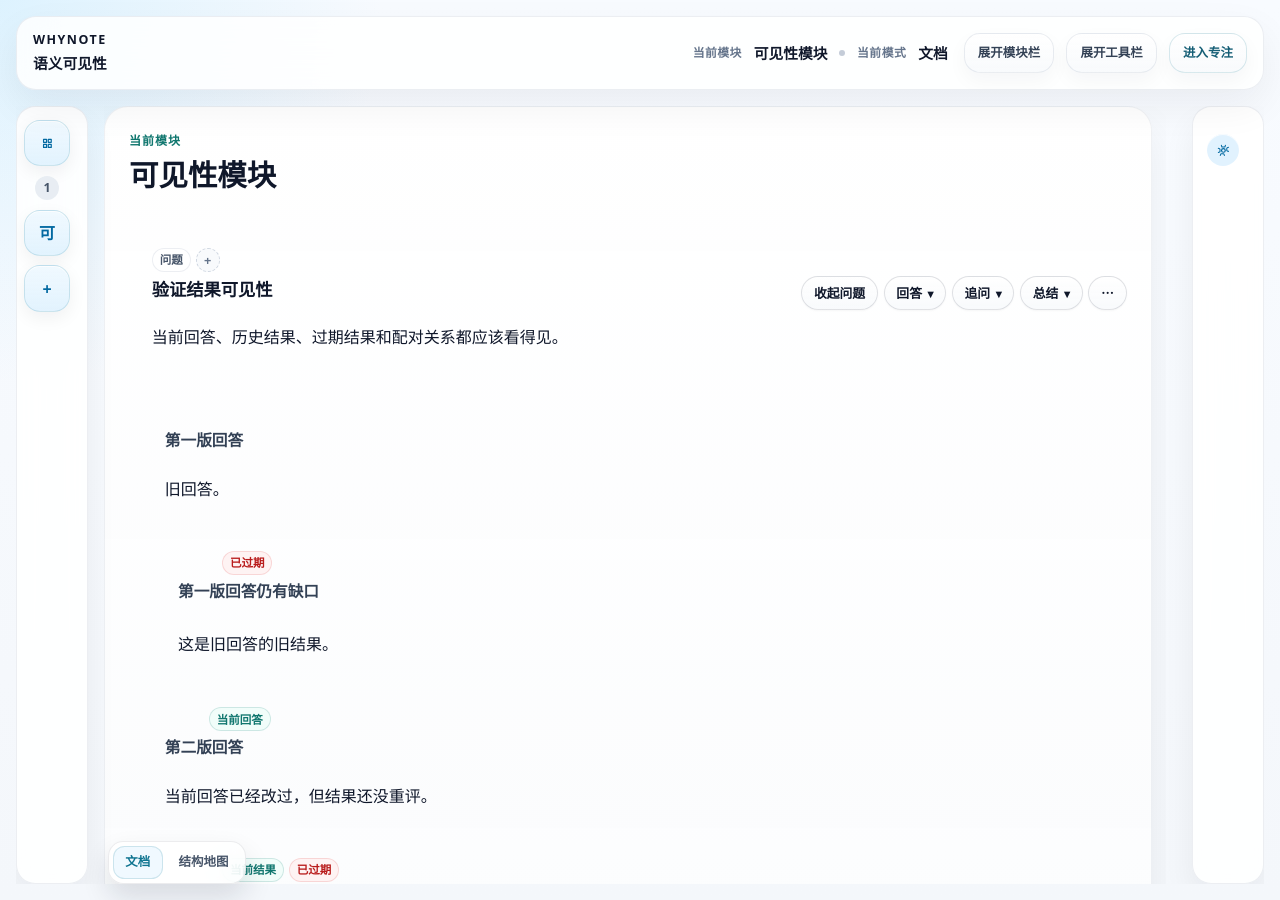
Test case: keeps default result badges minimal while preserving full semantics in inspector
Click the element with test id "editor-node-judgment-visibility-v1" at x=628, y=607, box [129,536,1127,677]
(page scrolled)
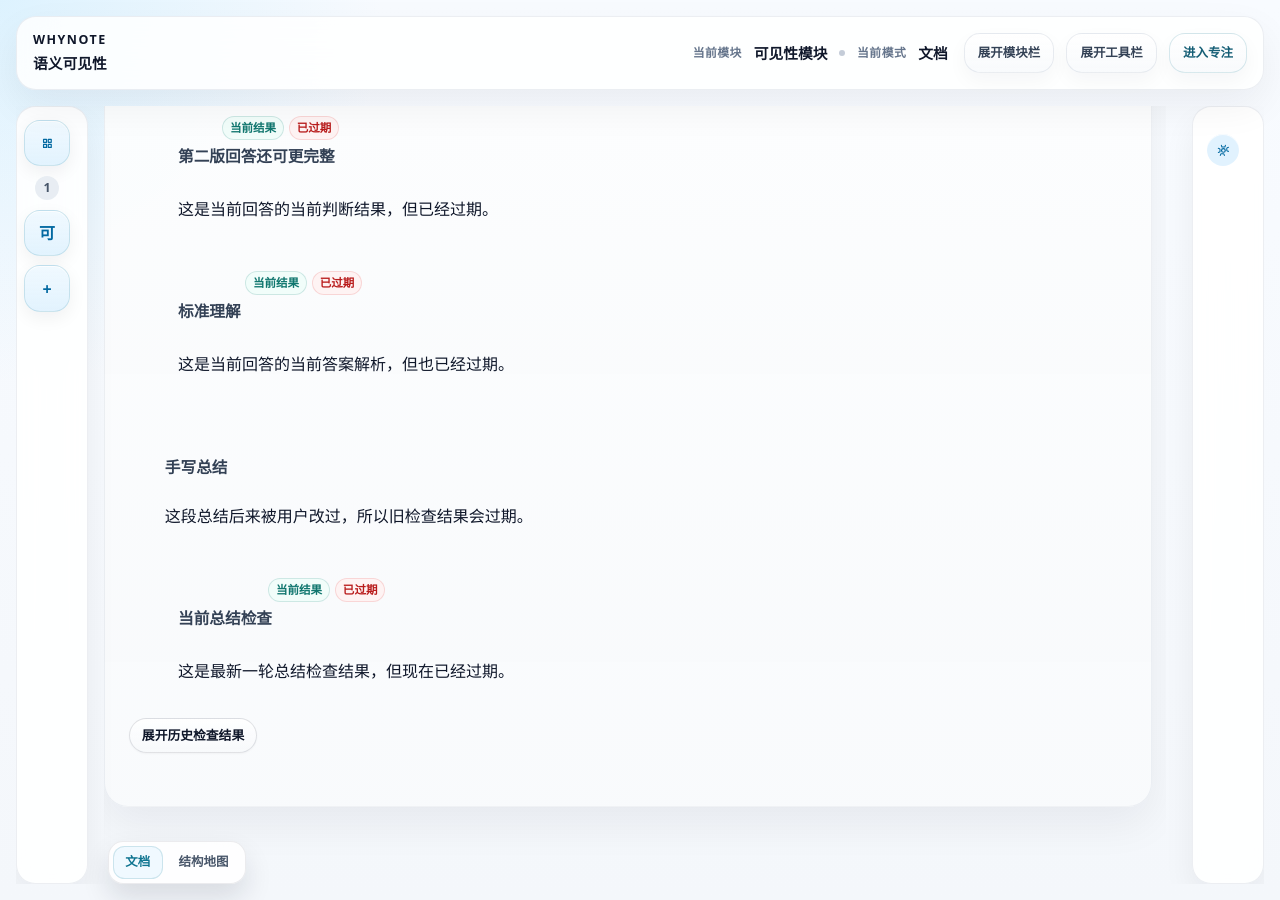
Click the button "展开历史检查结果" at x=193, y=736, box [129,718,257,753]
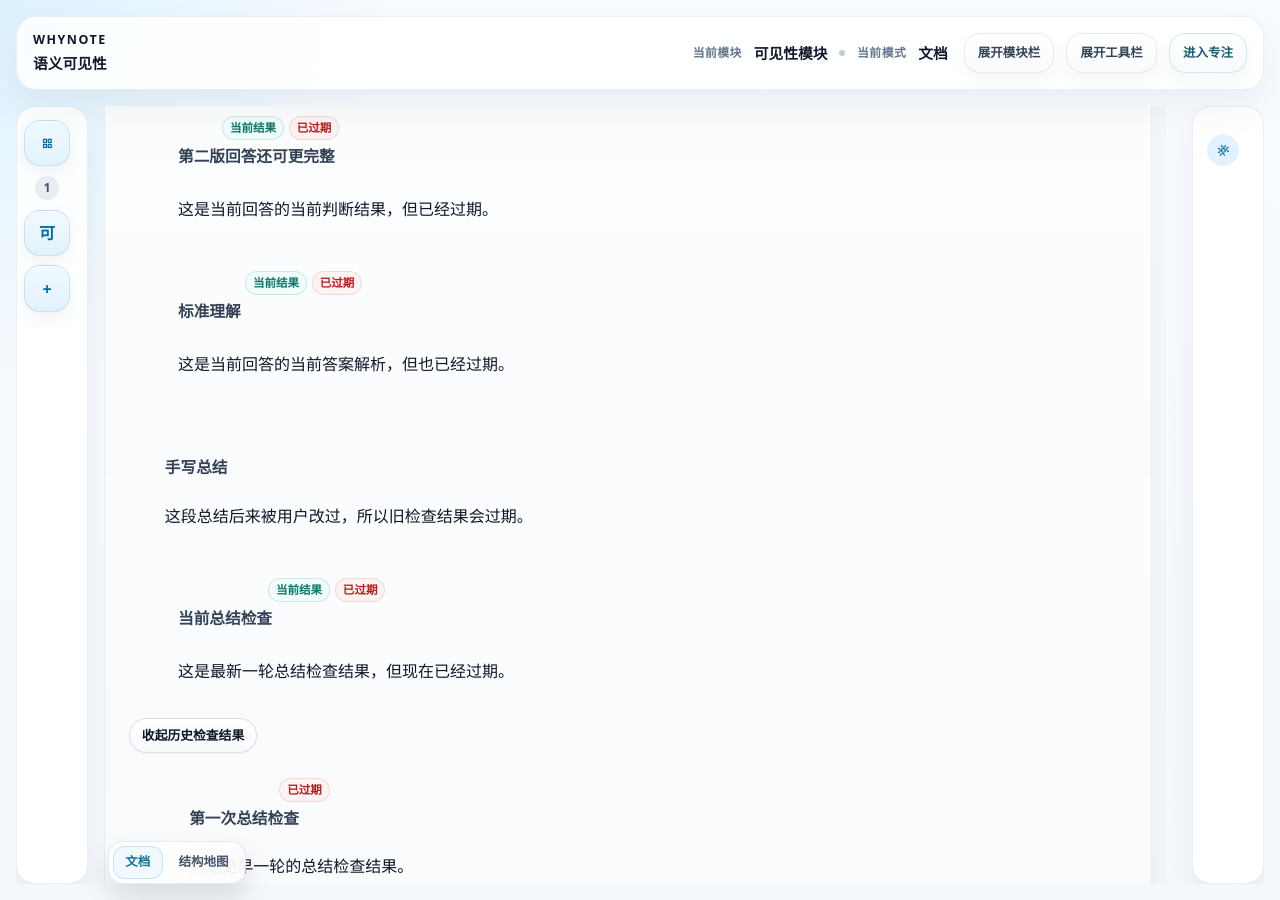
Check: the element with test id "editor-node-judgment-summary-check-old" does not show "历史结果", box [140,763,1127,884]
Click the element with test id "editor-node-judgment-summary-check-old" at x=633, y=831, box [140,763,1127,899]
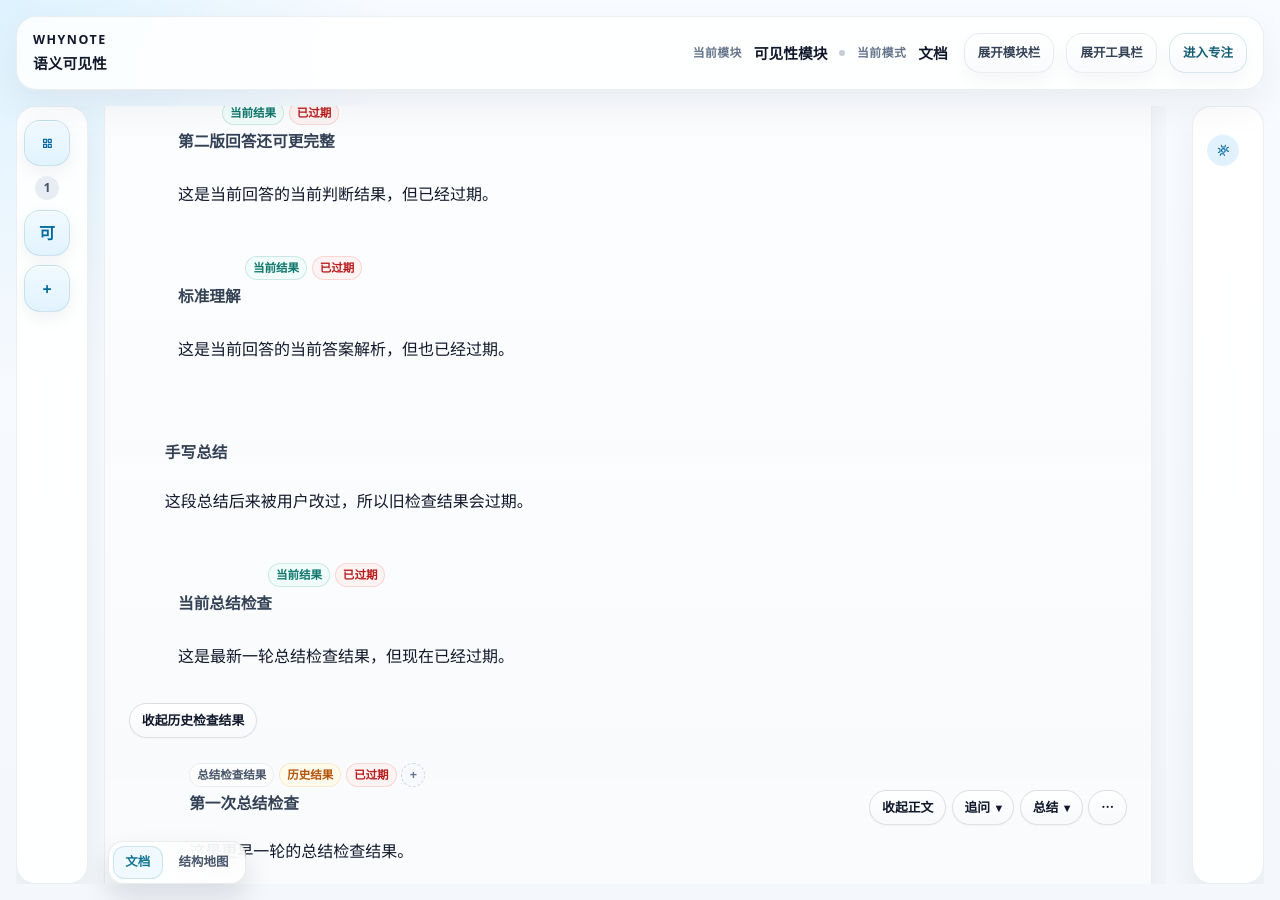
Check: the element with test id "editor-node-judgment-summary-check-old" shows "历史结果", box [287,767,333,782]
